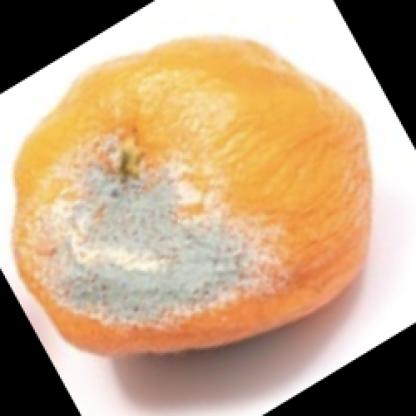rotten: (13, 34, 373, 359)
